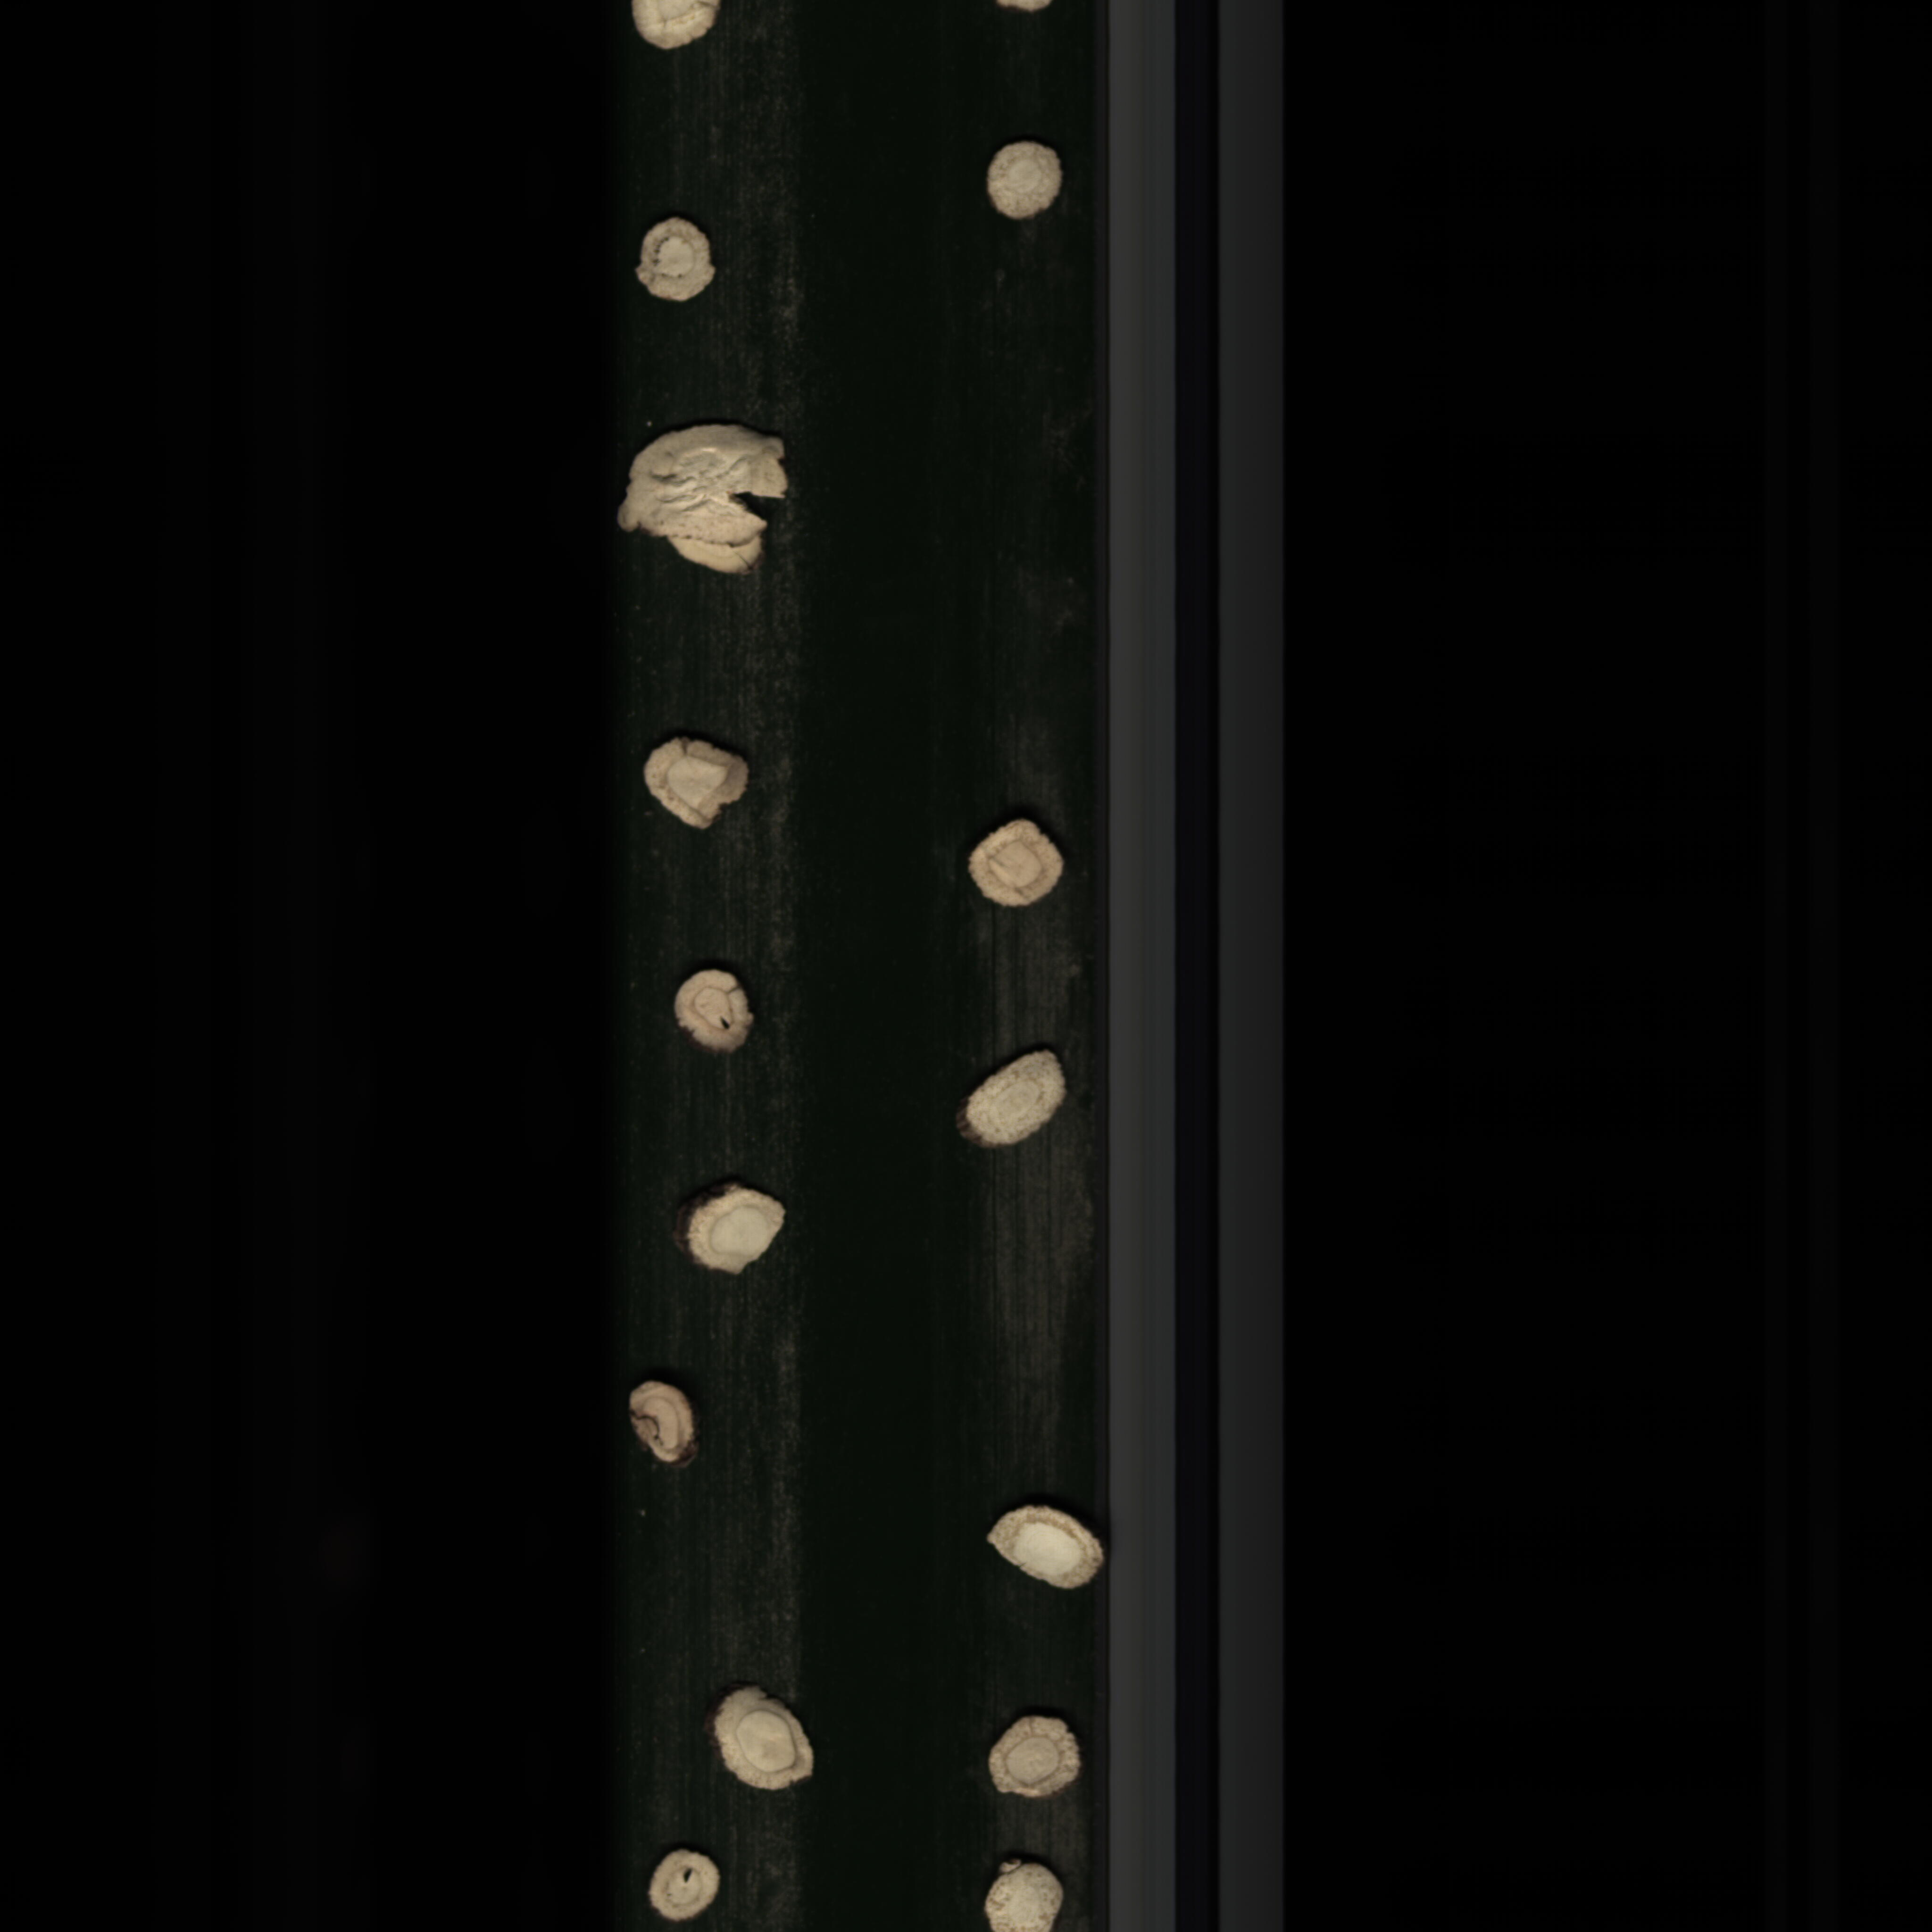debris: (579, 405, 798, 596), (978, 1493, 1113, 1605), (678, 1173, 803, 1292)
hole: (663, 968, 770, 1067), (640, 1844, 741, 1921)
moldy: (609, 1368, 711, 1479)
